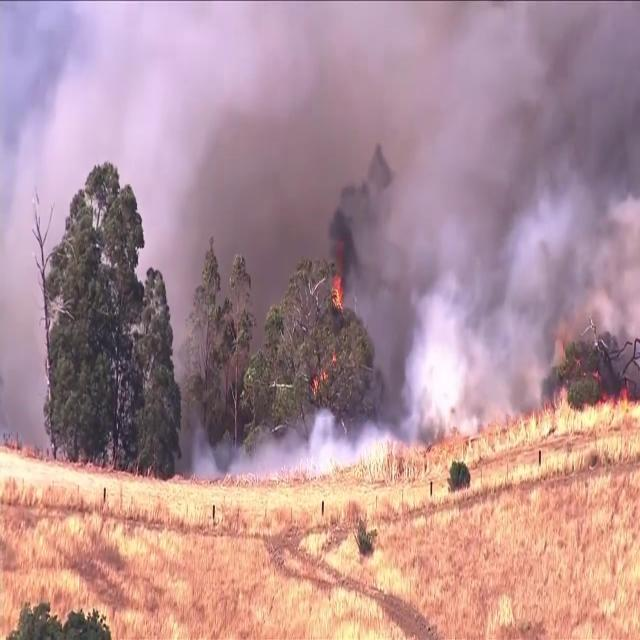Fire: (331, 272, 347, 311)
Smoke: (0, 5, 454, 303), (375, 2, 640, 453), (184, 409, 408, 475)
